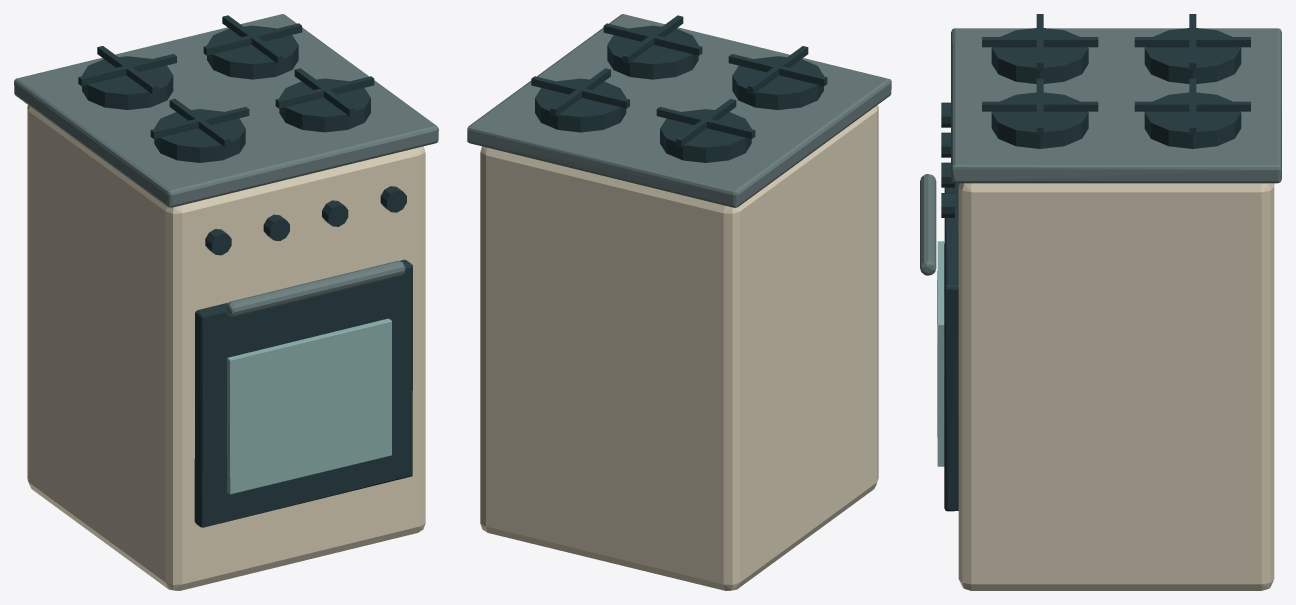
The model's file is four-burner-stove-near.glb.
The picture shows the model from 3 angles, left to right: view 1: azimuth 30°, elevation 25°; view 2: azimuth 150°, elevation 25°; view 3: azimuth 270°, elevation 25°; orthographic projection. The views are drawn at different scales.
Parts seen in each view (by area): view 1: four-burner-stove; view 2: four-burner-stove; view 3: four-burner-stove.
Part boxes in pixels (x1,y1,x2,y2): four-burner-stove: (14, 14, 438, 590); four-burner-stove: (467, 14, 891, 590); four-burner-stove: (920, 14, 1281, 590).
Bounding box in the file's own units: 0.65 × 0.9938 × 0.711.
